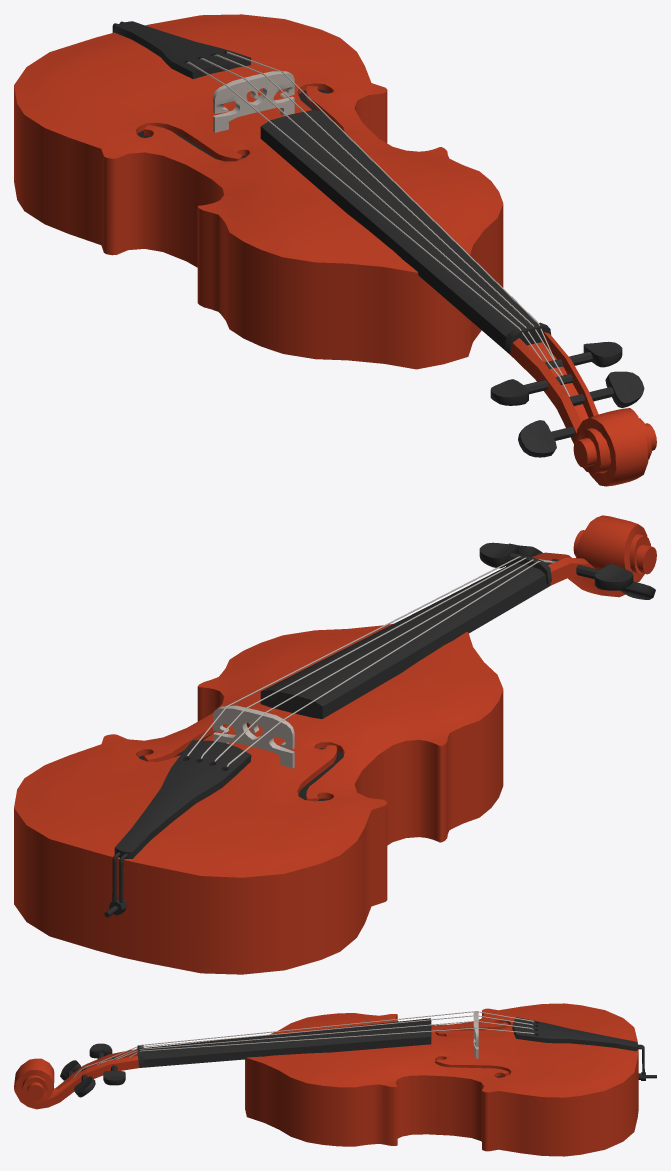
Rendered from DoubleBass_01.fbx.
3 views of the same model, one above another, from view 1: azimuth 30°, elevation 25°; view 2: azimuth 150°, elevation 25°; view 3: azimuth 270°, elevation 25° (orthographic). The views are drawn at different scales.
Parts seen in each view (by area): view 1: DoubleBass_01; view 2: DoubleBass_01; view 3: DoubleBass_01.
Boxes of the visible parts, x1,y1,x2,y2 form: DoubleBass_01: (14,14,656,486); DoubleBass_01: (14,515,656,974); DoubleBass_01: (14,1003,656,1156).
Bounding box in the file's own units: 0.6205 × 0.2808 × 1.79.
